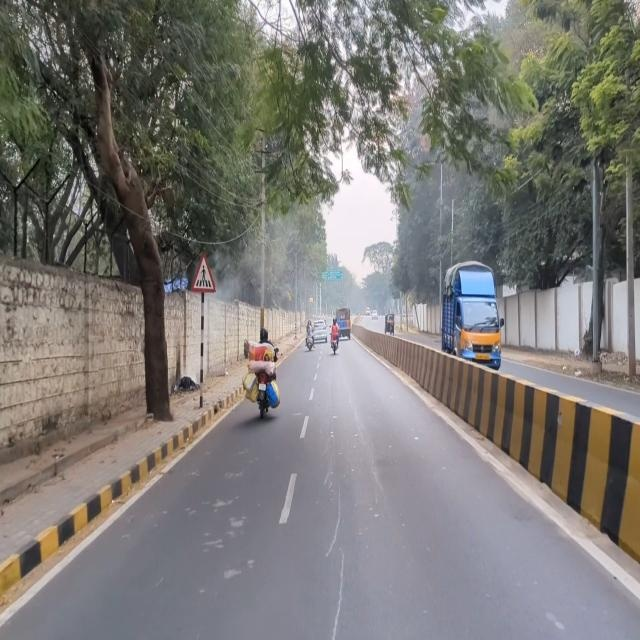bien_nguy_hiem: (191, 252, 217, 294)
